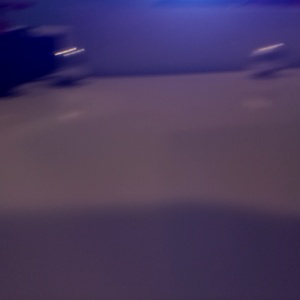alive_ball: (43, 46, 91, 82), (246, 43, 292, 75)
